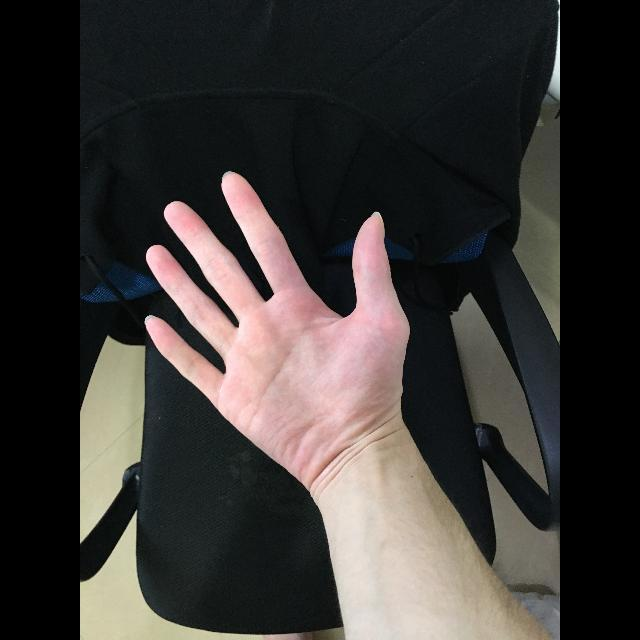bare_hand: (139, 171, 419, 534)
